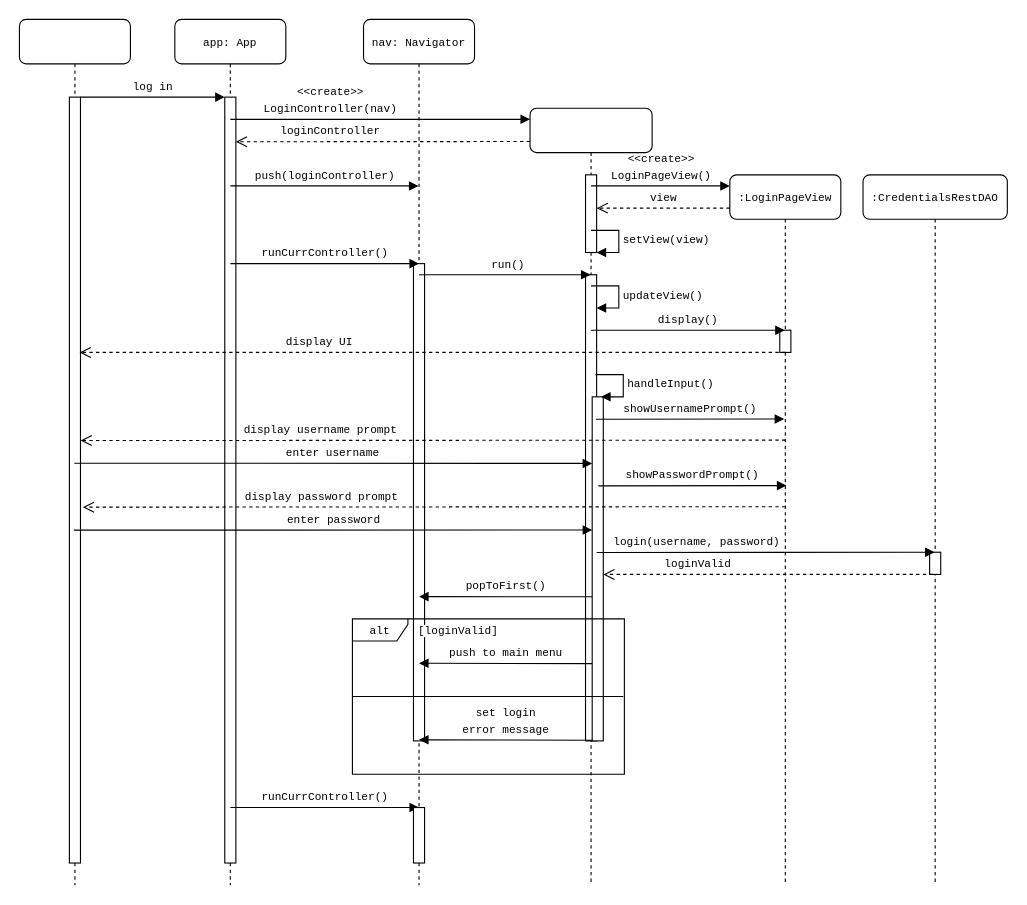
Image size: 1027x905. Some labels were removed from this diagram. Here are the shapes that lost their labels. From the top down, the box of each, then its label:
(18, 18, 130, 885): User
(529, 107, 652, 885): :LoginController
